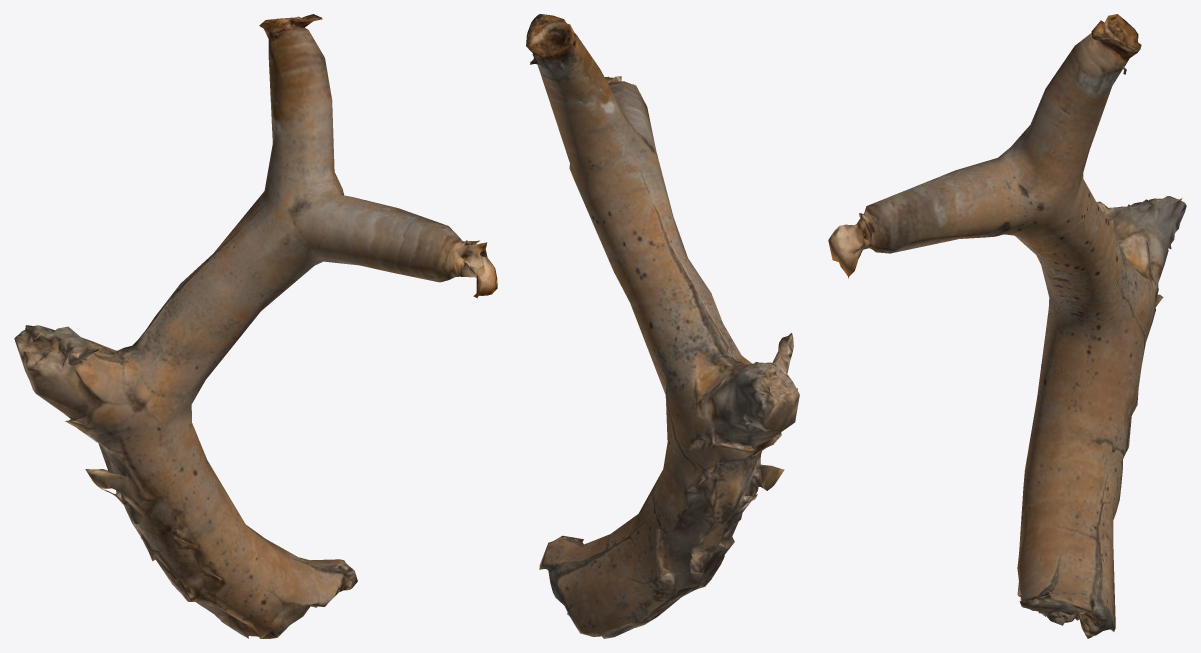
File: dead_quiver_branch_01.glb
3 views of the same model, side by side, from view 1: azimuth 30°, elevation 25°; view 2: azimuth 150°, elevation 25°; view 3: azimuth 270°, elevation 25° (orthographic). The views are drawn at different scales.
Parts seen in each view (by area): view 1: dead_quiver_branch_01; view 2: dead_quiver_branch_01; view 3: dead_quiver_branch_01.
Part boxes in pixels (<box>): dead_quiver_branch_01: <box>14,14,497,638</box>; dead_quiver_branch_01: <box>526,14,799,638</box>; dead_quiver_branch_01: <box>828,14,1186,638</box>.
Size of the model in its own units: 0.2538 by 0.4383 by 0.2258.
1 material, 1 textured.
